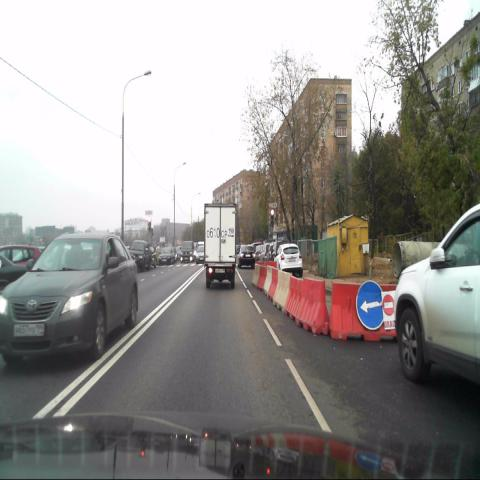4_1_2_2: (356, 280, 383, 329)
